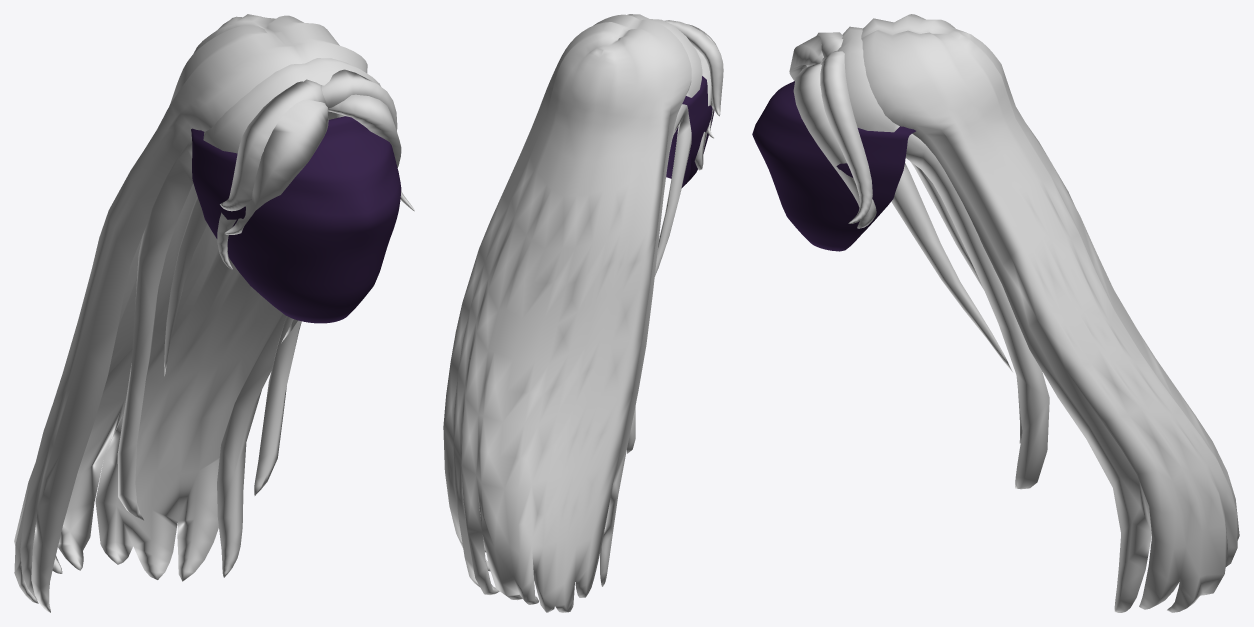
Rendered from mirage-head-e3969e1cdd7d.glb.
3 views of the same model, side by side, from view 1: azimuth 30°, elevation 25°; view 2: azimuth 150°, elevation 25°; view 3: azimuth 270°, elevation 25° (orthographic). The views are drawn at different scales.
Parts seen in each view (by area): view 1: SM_Hero_mirage_FlowingLongHair_A, SM_Hero_mirage_FullMask_A; view 2: SM_Hero_mirage_FlowingLongHair_A, SM_Hero_mirage_FullMask_A; view 3: SM_Hero_mirage_FlowingLongHair_A, SM_Hero_mirage_FullMask_A.
Boxes of the visible parts, x1=… form: SM_Hero_mirage_FlowingLongHair_A: x1=14, y1=14, x2=414, y2=612; SM_Hero_mirage_FullMask_A: x1=191, y1=116, x2=401, y2=323; SM_Hero_mirage_FlowingLongHair_A: x1=443, y1=14, x2=723, y2=612; SM_Hero_mirage_FullMask_A: x1=666, y1=76, x2=714, y2=187; SM_Hero_mirage_FlowingLongHair_A: x1=789, y1=14, x2=1239, y2=612; SM_Hero_mirage_FullMask_A: x1=752, y1=81, x2=915, y2=251.
Bounding box in the file's own units: 0.252 × 0.6773 × 0.523.
